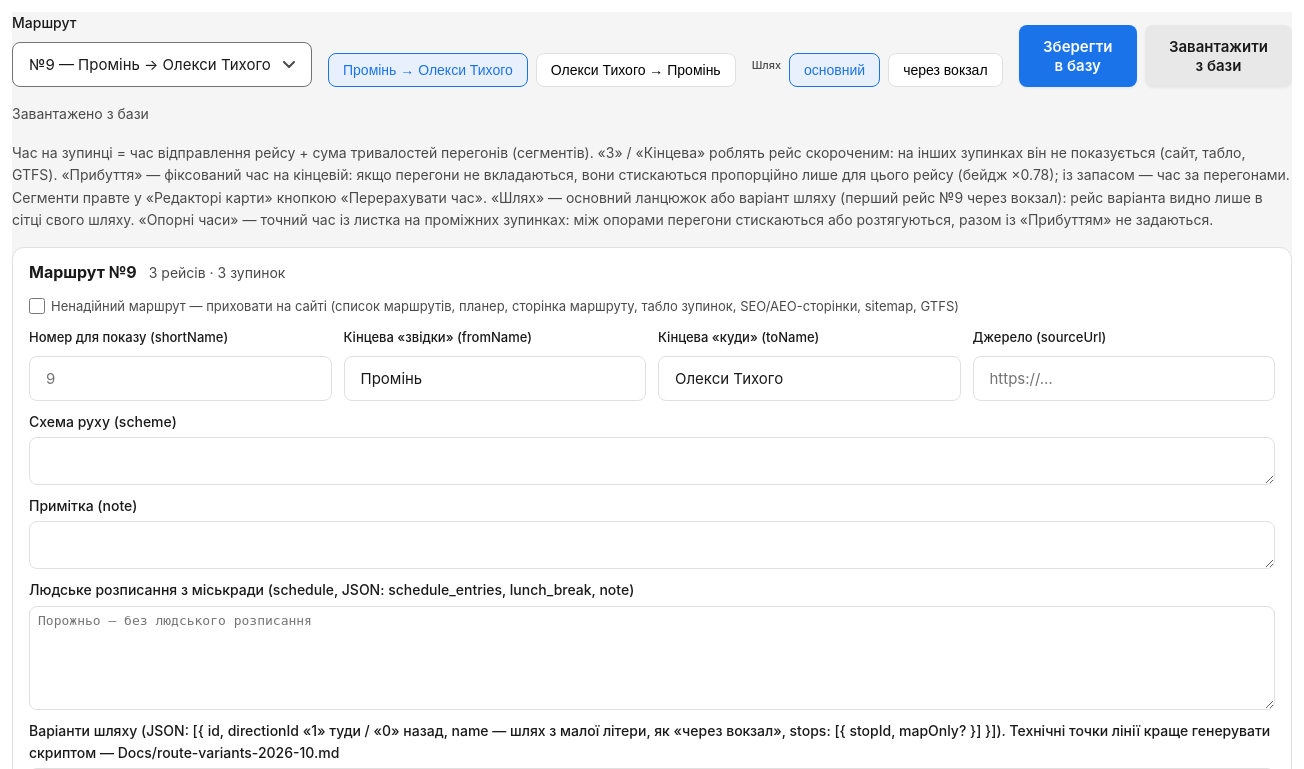
ScheduleEditorTab: timepoints and saving › 409 from the server says the data changed and how to recover
Check: the heading "Маршрут №9" is shown, box [29,260,137,286]
Click the button "Зберегти в базу" at x=1078, y=56, box [1019,25,1137,87]
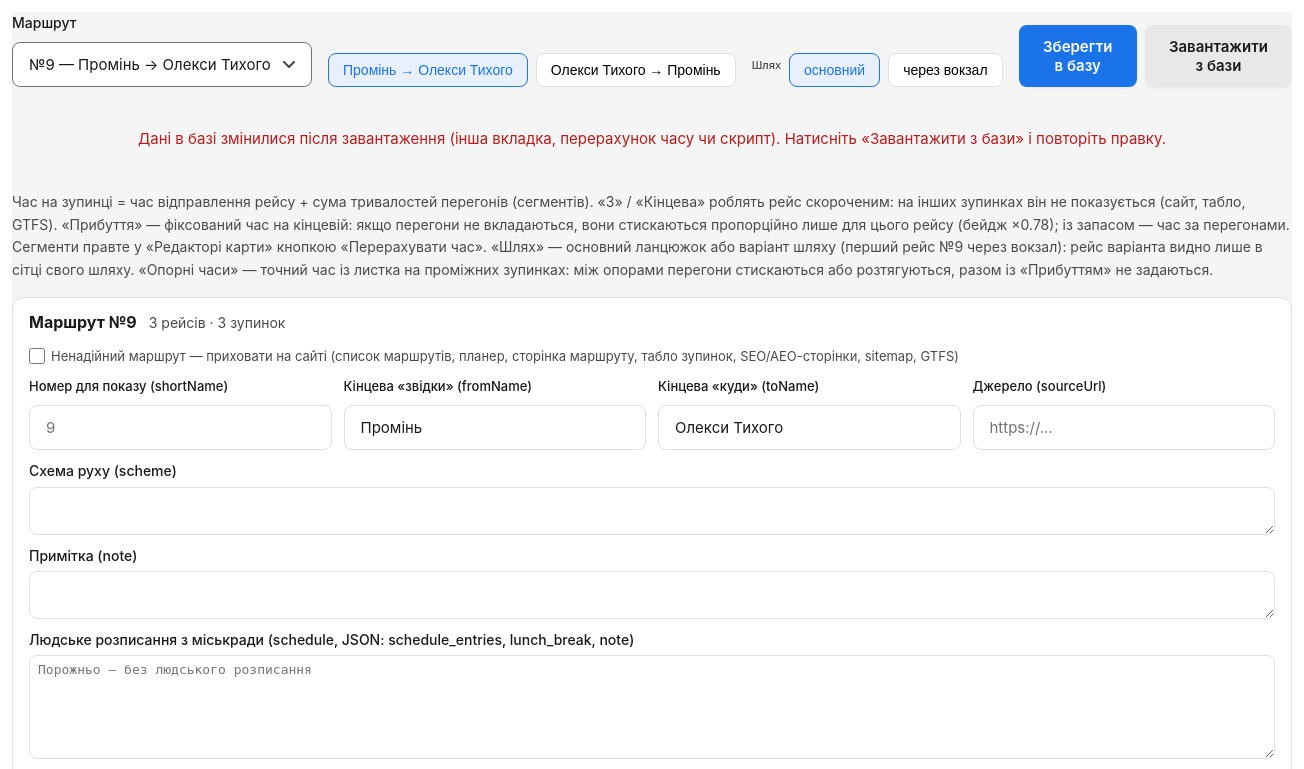
Check: the text "Дані в базі змінилися після завантаження (інша вкладка, перерахунок часу чи скрипт). Натисніть «Завантажити з бази» і по" is shown, box [138,129,1166,148]
